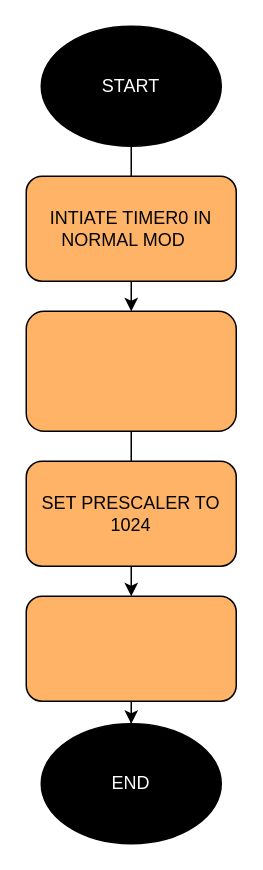
Some shapes in this 263 by 870 pixel diagram are drawn without their labels. The box of each missing label's shape, as (x1, y1, x2, y2) in pixels:
SET OVERFLAG TO 1: (25, 595, 236, 701)
SET TCNT0 WITH THE REQUIRED INITIATION NUMBER: (25, 310, 236, 431)
